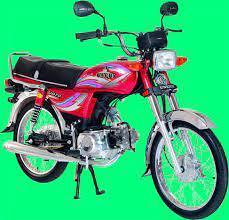motorcycle: (5, 1, 227, 212)
